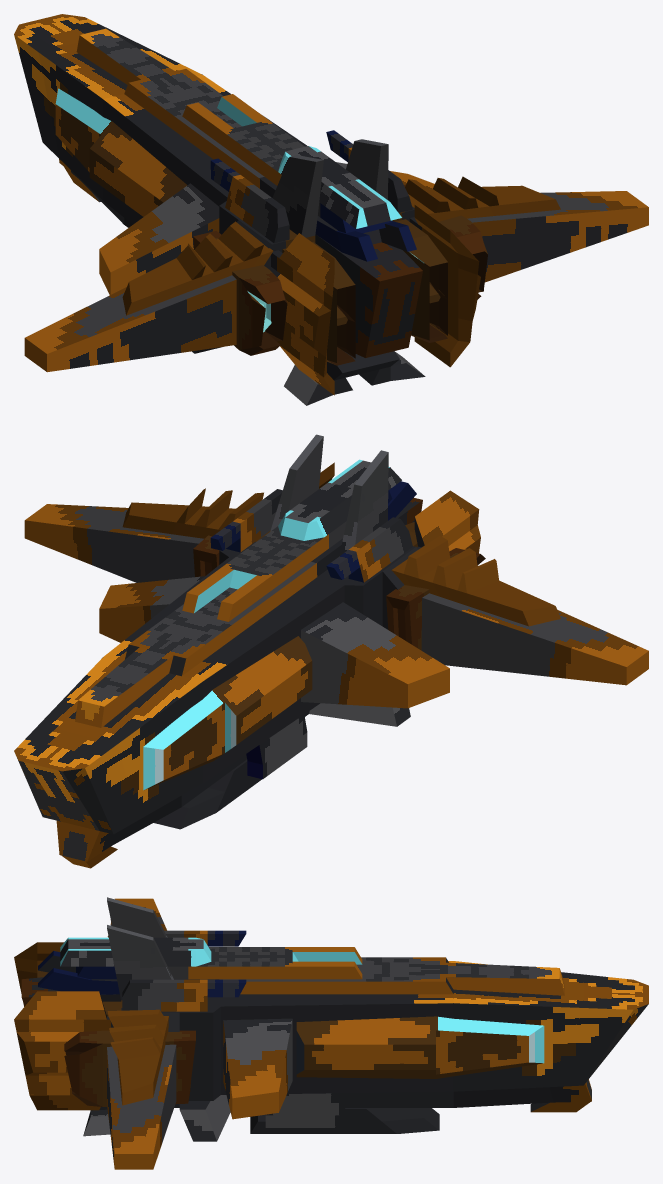
Rendered from npcShip2.glb.
3 views of the same model, one above another, from view 1: azimuth 30°, elevation 25°; view 2: azimuth 150°, elevation 25°; view 3: azimuth 270°, elevation 25° (orthographic). The views are drawn at different scales.
Visible parts, largest first — view 1: body_16, wing 1_30, cuboid_3, wing 2_32, cuboid_0, cuboid_18, wing 3_31, cuboid_20, cuboid_22, cuboid_21, cuboid_25, cuboid_14 (+6 smaller); view 2: body_16, wing 1_30, cuboid_0, wing 3_31, cuboid_3, wing 2_32, cuboid_20, cuboid_5, cuboid_21, wing 4_33, cuboid_19, cuboid_4 (+5 smaller); view 3: body_16, cuboid_1, cuboid_3, cuboid_22, wing 4_33, cuboid_5, wing 2_32, cuboid_21, cuboid_28, cuboid_23, cuboid_6, cuboid_4 (+3 smaller).
Part boxes in pixels (x1=…): body_16: x1=14, y1=14, x2=425, y2=405; wing 1_30: x1=24, y1=275, x2=236, y2=372; cuboid_3: x1=182, y1=94, x2=401, y2=233; wing 2_32: x1=467, y1=191, x2=648, y2=282; cuboid_0: x1=55, y1=88, x2=187, y2=216; cuboid_18: x1=269, y1=233, x2=334, y2=395; wing 3_31: x1=99, y1=183, x2=219, y2=294; cuboid_20: x1=122, y1=221, x2=273, y2=315; cuboid_22: x1=409, y1=205, x2=480, y2=367; cuboid_21: x1=405, y1=176, x2=560, y2=221; cuboid_25: x1=193, y1=231, x2=287, y2=355; cuboid_14: x1=395, y1=219, x2=447, y2=342; body_16: x1=14, y1=481, x2=422, y2=868; wing 1_30: x1=421, y1=593, x2=648, y2=685; cuboid_0: x1=143, y1=636, x2=312, y2=790; wing 3_31: x1=301, y1=602, x2=449, y2=708; cuboid_3: x1=182, y1=459, x2=401, y2=621; wing 2_32: x1=24, y1=504, x2=203, y2=582; cuboid_20: x1=391, y1=535, x2=560, y2=626; cuboid_5: x1=153, y1=715, x2=307, y2=829; cuboid_21: x1=122, y1=488, x2=263, y2=538; wing 4_33: x1=99, y1=576, x2=204, y2=642; cuboid_19: x1=326, y1=517, x2=412, y2=582; cuboid_4: x1=339, y1=450, x2=388, y2=555; body_16: x1=21, y1=951, x2=648, y2=1141; cuboid_1: x1=296, y1=1016, x2=544, y2=1078; cuboid_3: x1=60, y1=937, x2=362, y2=979; cuboid_22: x1=14, y1=991, x2=113, y2=1110; wing 4_33: x1=223, y1=1018, x2=292, y2=1119; cuboid_5: x1=250, y1=1093, x2=439, y2=1133; wing 2_32: x1=107, y1=1044, x2=176, y2=1169; cuboid_21: x1=107, y1=1009, x2=168, y2=1105; cuboid_28: x1=64, y1=1030, x2=195, y2=1106; cuboid_23: x1=122, y1=979, x2=246, y2=1011; cuboid_6: x1=107, y1=925, x2=173, y2=1000; cuboid_4: x1=107, y1=897, x2=167, y2=937.
Size of the model in its own units: 12.19 by 4.67 by 12.81.
1 material, 1 textured.
